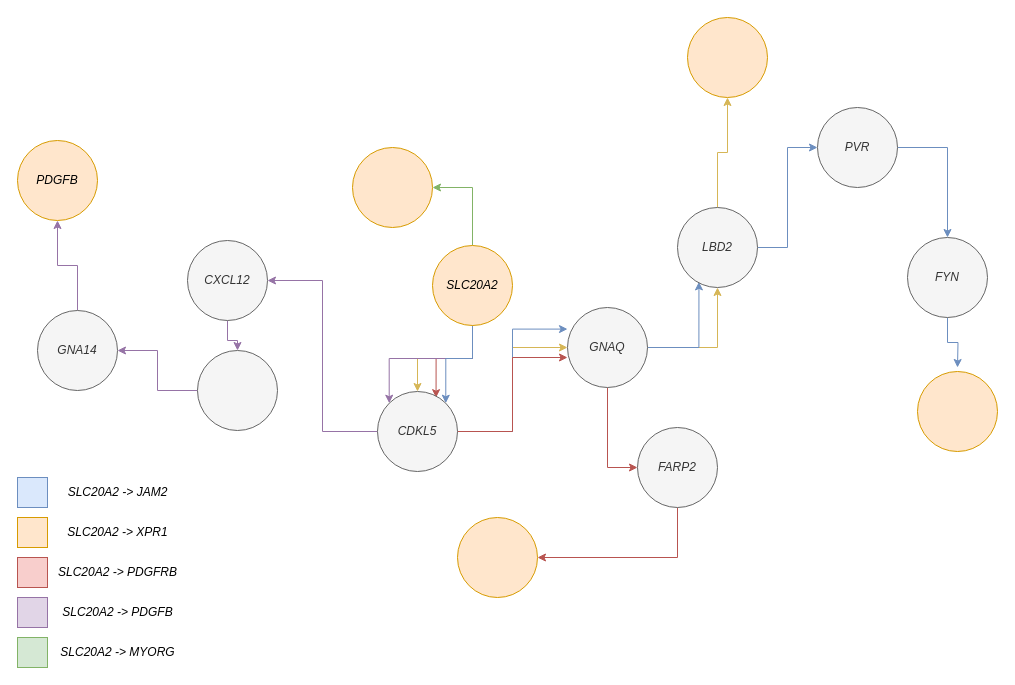
The diagram is 1015 pixels wide and 685 high, and some of its shapes have lost their labels. The centre of each missing label's shape, as x and y in pixels:
"EMCN" goes at point 237,390.
"JAM2" goes at point 957,411.
"MYORG" goes at point 392,187.
"PDGFRB" goes at point 497,557.
"XPR1" goes at point 727,57.
